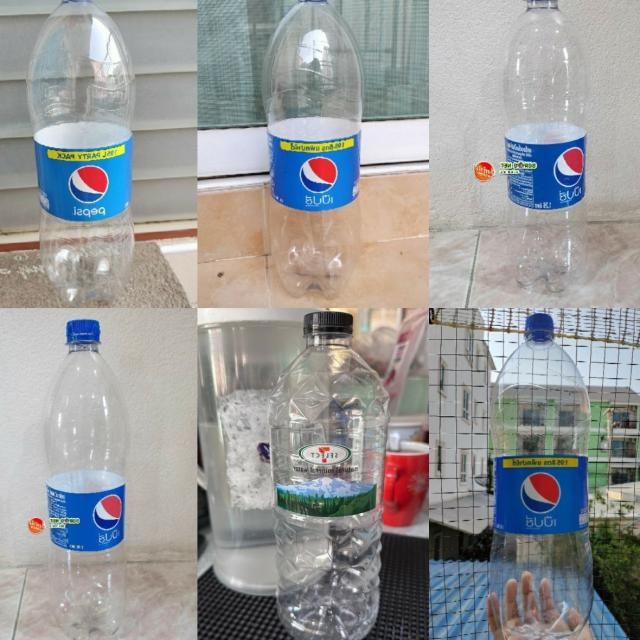plastik: (268, 311, 389, 640), (490, 314, 593, 640), (27, 0, 134, 306), (263, 0, 362, 297), (499, 0, 590, 291), (45, 319, 127, 640)
